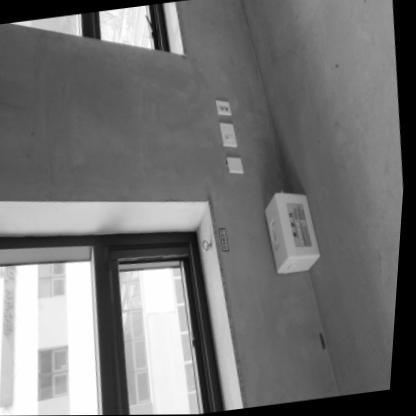DDL: (260, 186, 329, 276)
